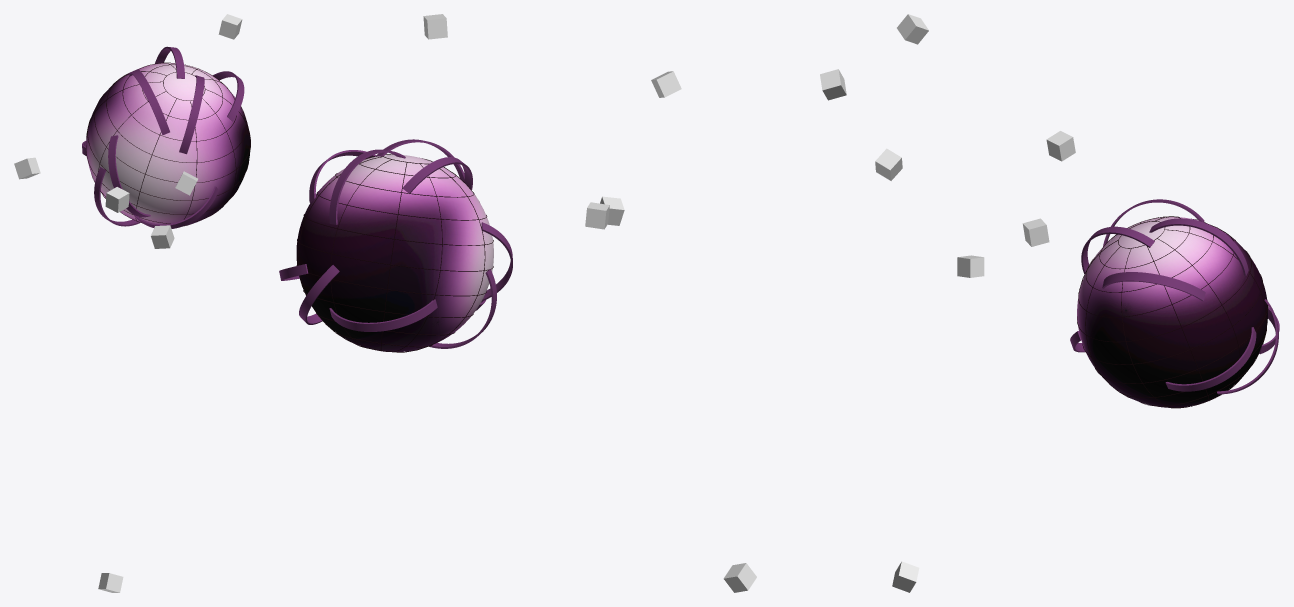
Rendered from CEREBRIUM_globe6_optimized2.glb.
3 renders of one model, left to right at view 1: azimuth 30°, elevation 25°; view 2: azimuth 150°, elevation 25°; view 3: azimuth 270°, elevation 25°, orthographic. The views are drawn at different scales.
Parts seen in each view (by area): view 1: Sphère, light, pathE_384-402-444-464, pathD_212-230-272-292.001, pathA_62-80-122-142.002, pathA_62-80-122-142.001, pathC_178-196-238-258.002, pathD_212-230-272-292, Cube.003, Cube.005, pathE_384-402-444-464.001, Cube.006 (+3 smaller); view 2: Sphère, light, pathD_212-230-272-292.002, pathE_384-402-444-464.001, pathD_212-230-272-292.001, pathA_62-80-122-142; view 3: Sphère, light, pathD_212-230-272-292, pathC_178-196-238-258, pathE_384-402-444-464.001, pathE_384-402-444-464, Cube.006, Cube.004, Cube.002, Cube.001, Cube.005, Cube.003.
Part boxes in pixels (x1,y1,x2,y2): Sphère: [86, 63, 250, 225]; light: [86, 62, 250, 226]; pathE_384-402-444-464: [179, 75, 204, 154]; pathD_212-230-272-292.001: [129, 69, 169, 134]; pathA_62-80-122-142.002: [108, 135, 150, 217]; pathA_62-80-122-142.001: [133, 186, 218, 228]; pathC_178-196-238-258.002: [94, 167, 140, 226]; pathD_212-230-272-292: [213, 71, 244, 121]; Cube.003: [105, 187, 129, 212]; Cube.005: [151, 225, 174, 248]; pathE_384-402-444-464.001: [155, 46, 184, 78]; Cube.006: [218, 14, 242, 39]; Sphère: [296, 154, 493, 351]; light: [296, 154, 493, 352]; pathD_212-230-272-292.002: [329, 299, 437, 331]; pathE_384-402-444-464.001: [329, 149, 405, 224]; pathD_212-230-272-292.001: [402, 157, 472, 193]; pathA_62-80-122-142: [299, 265, 339, 324]; Sphère: [1077, 217, 1267, 407]; light: [1077, 216, 1268, 408]; pathD_212-230-272-292: [1102, 272, 1205, 300]; pathC_178-196-238-258: [1165, 327, 1256, 391]; pathE_384-402-444-464.001: [1149, 218, 1248, 276]; pathE_384-402-444-464: [1081, 226, 1154, 273]; Cube.006: [1046, 131, 1075, 161]; Cube.004: [897, 14, 928, 44]; Cube.002: [875, 148, 902, 180]; Cube.001: [892, 561, 919, 592]; Cube.005: [957, 255, 984, 277]; Cube.003: [1022, 218, 1049, 246].
Bounding box in the file's own units: 4.77 × 6.48 × 4.24.
Materials: 3 (1 with a texture image).
